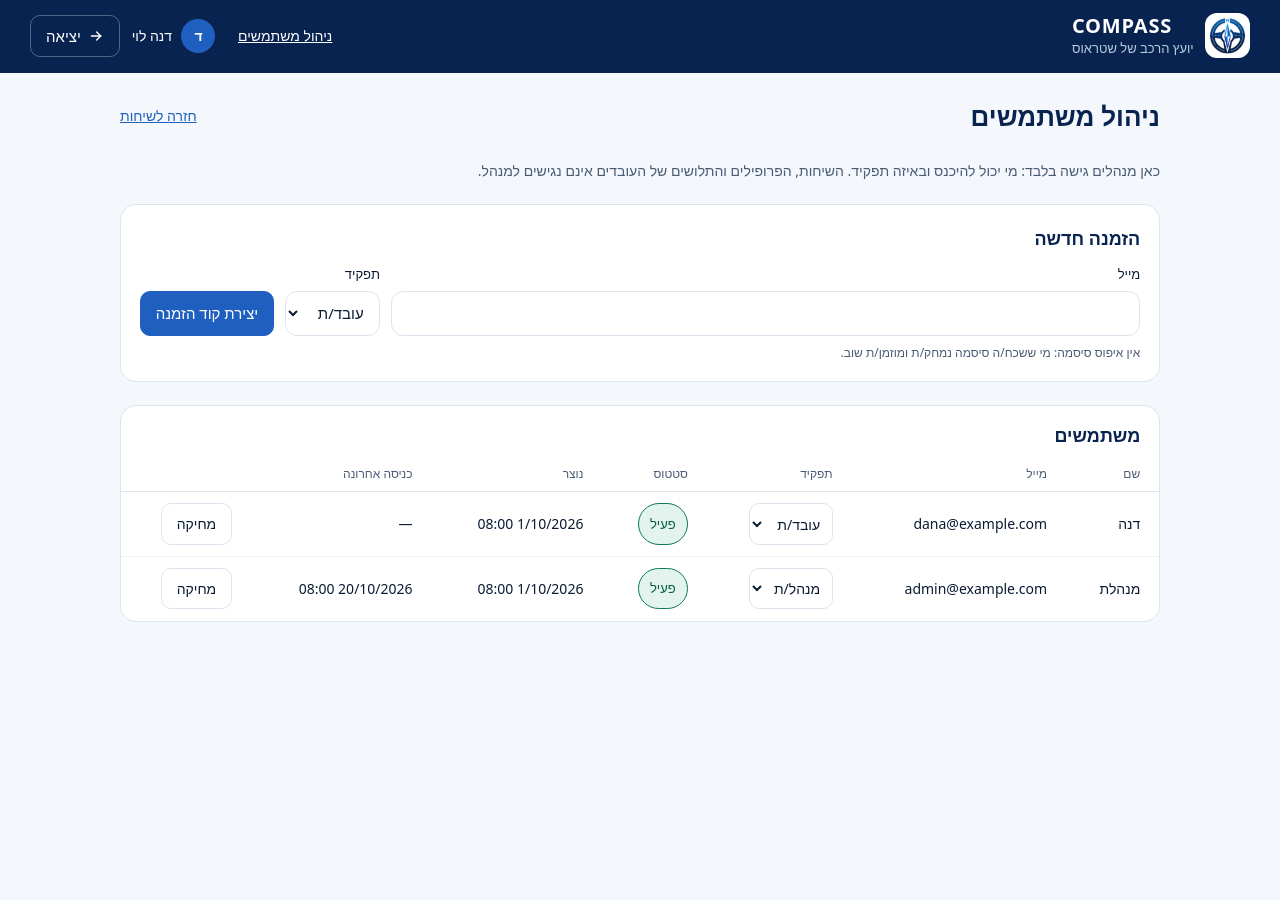
it: the admin page › says why an existing user cannot be invited again
expect the table "משתמשים" is shown: met, box [121, 406, 1159, 621]
In the field labelled "מייל": (766, 313) [391, 291, 1140, 336], type "dana@example.com"
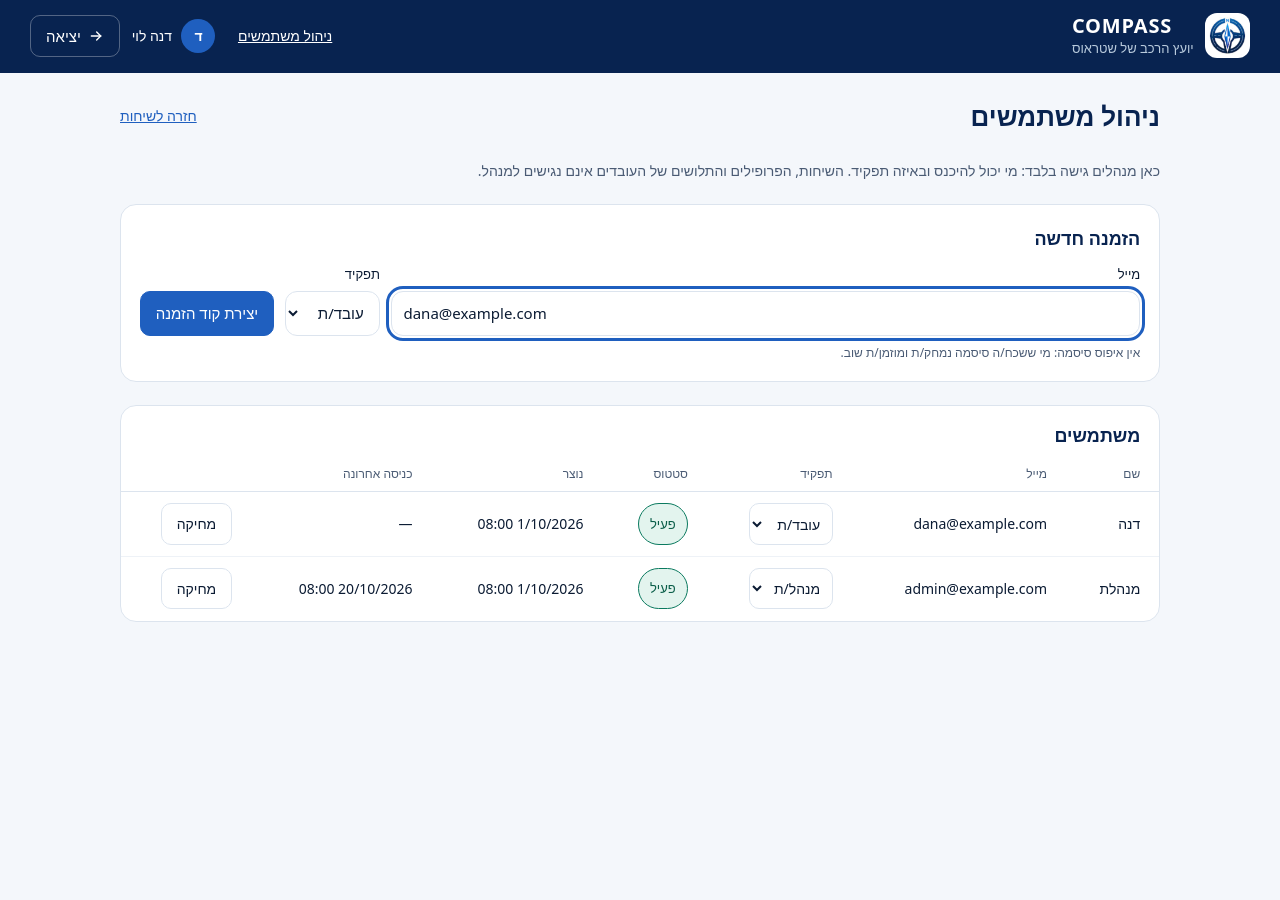
Click the button "יצירת קוד הזמנה": (207, 313) [140, 291, 274, 336]
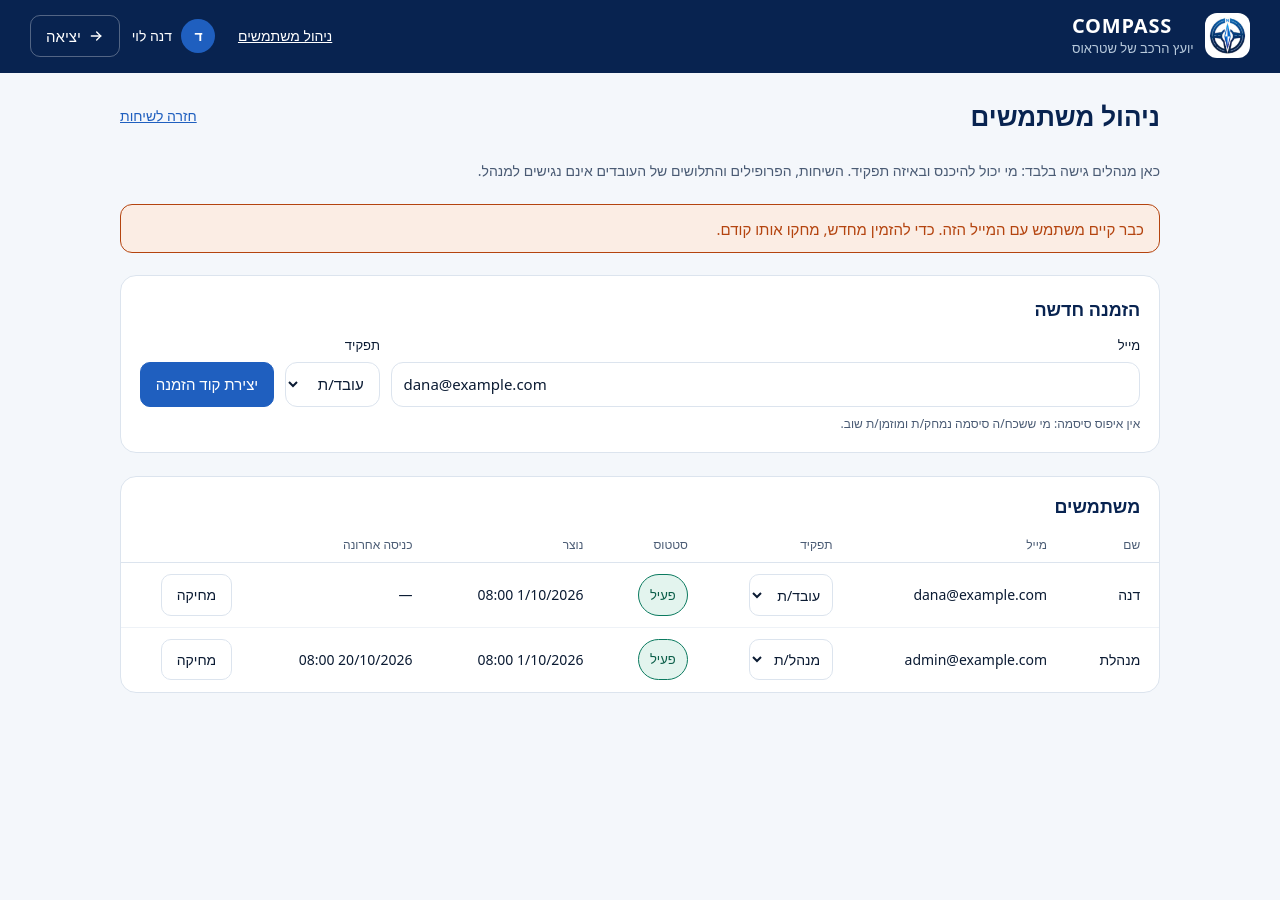
expect the message shows "מחקו אותו קודם": met, box [716, 219, 1144, 239]
